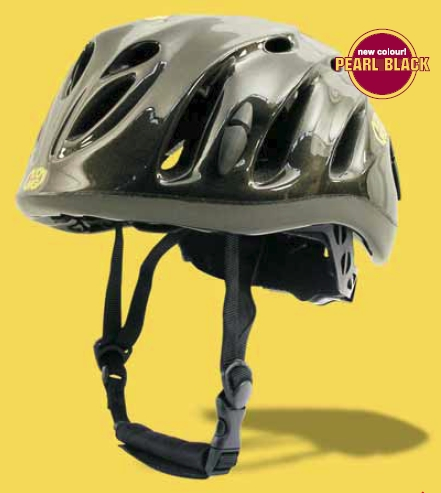helmet: (36, 28, 397, 275)
